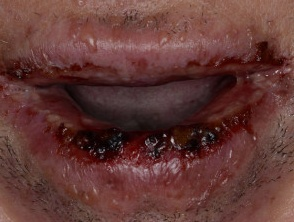SJS-TEN: (0, 5, 294, 222)
